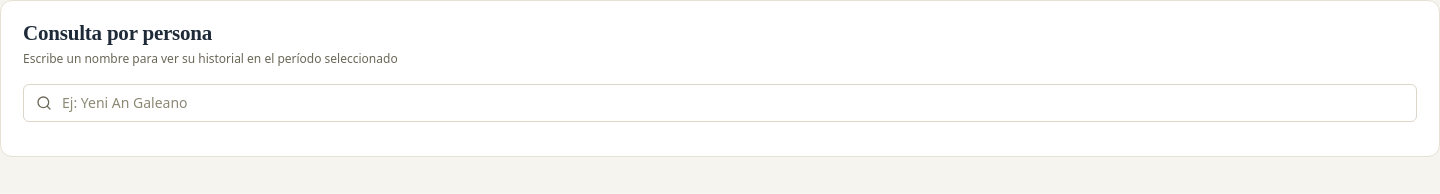
Test case: ConsultaPersona › dice cuando no hay resultados
Type "zzz" into the search field. click: [732, 103]
box: [60,93,1404,113]
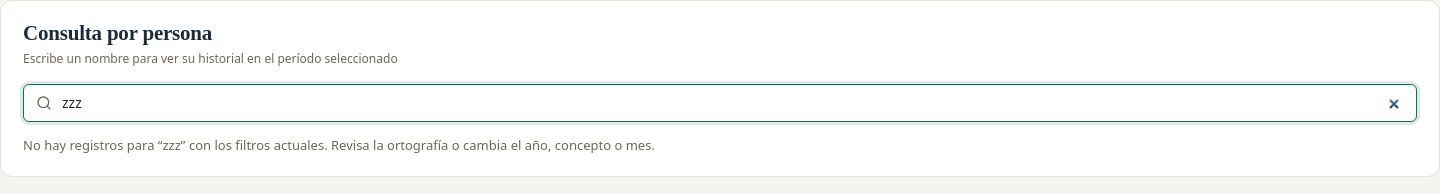
Expected: the text "No hay registros para “zzz”" is shown, [23,136,655,154]
